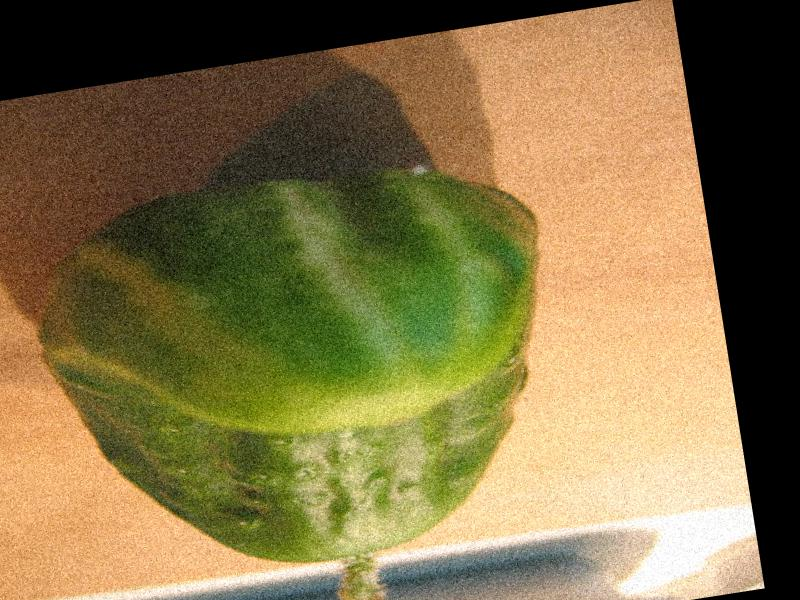Cucumber: (24, 136, 596, 600)
